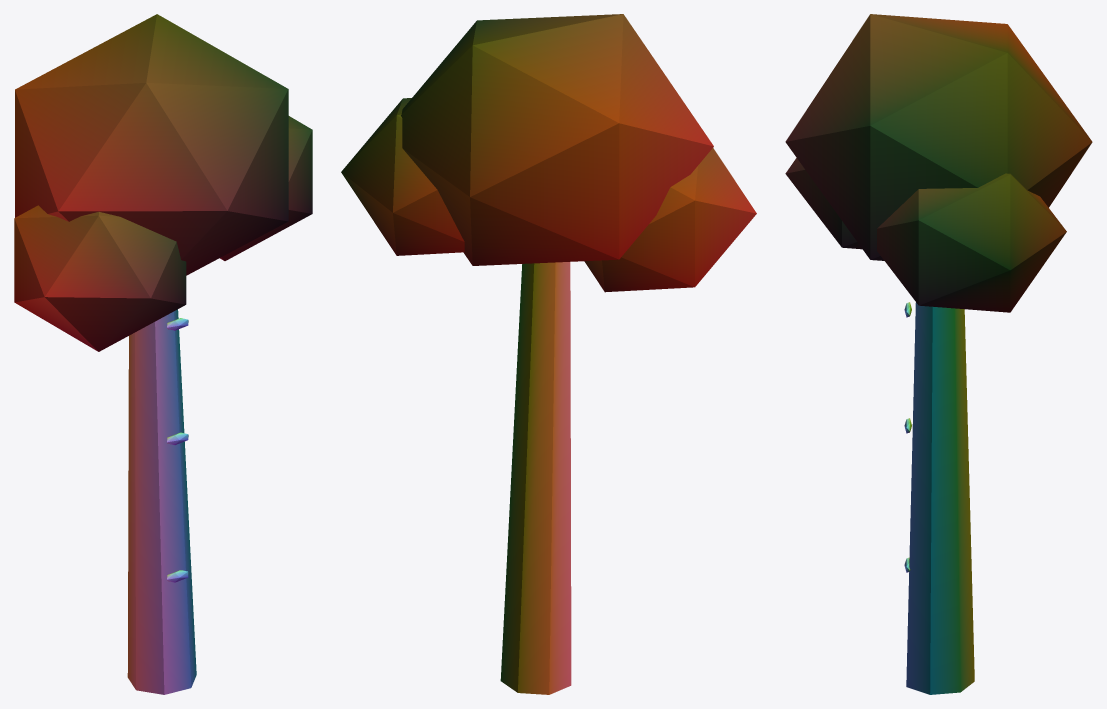
Rendered from BirchTree.fbx.
3 views of the same model, side by side, from view 1: azimuth 30°, elevation 25°; view 2: azimuth 150°, elevation 25°; view 3: azimuth 270°, elevation 25° (orthographic). The views are drawn at different scales.
Visible parts, largest first — view 1: BirchTree; view 2: BirchTree; view 3: BirchTree.
Boxes of the visible parts, bbox=[...] form: BirchTree: bbox=[14, 14, 312, 694]; BirchTree: bbox=[341, 14, 756, 694]; BirchTree: bbox=[785, 14, 1092, 694].
Size of the model in its own units: 1.47 by 2.77 by 1.2.
